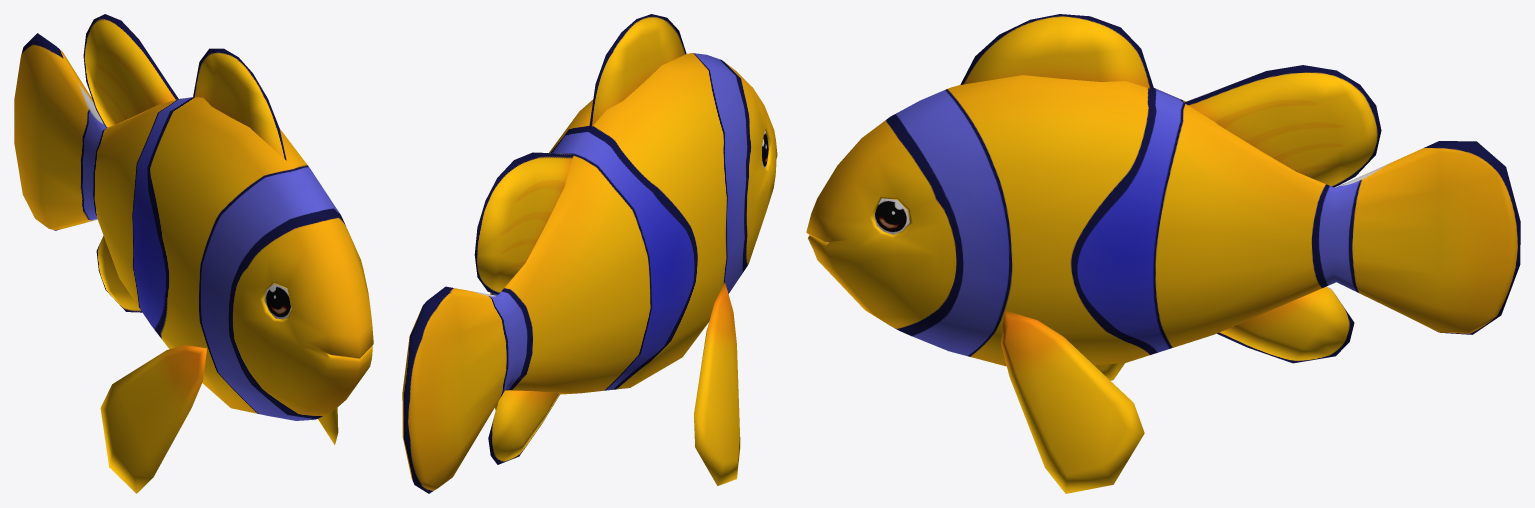
File: Fish (1).fbx
3 views of the same model, side by side, from view 1: azimuth 30°, elevation 25°; view 2: azimuth 150°, elevation 25°; view 3: azimuth 270°, elevation 25° (orthographic). The views are drawn at different scales.
Visible parts, largest first — view 1: Fish; view 2: Fish; view 3: Fish.
Part boxes in pixels (bbox=[...]): Fish: bbox=[14, 14, 373, 493]; Fish: bbox=[402, 14, 777, 493]; Fish: bbox=[806, 14, 1520, 493].
Size of the model in its own units: 5.2 by 9.84 by 14.82.
